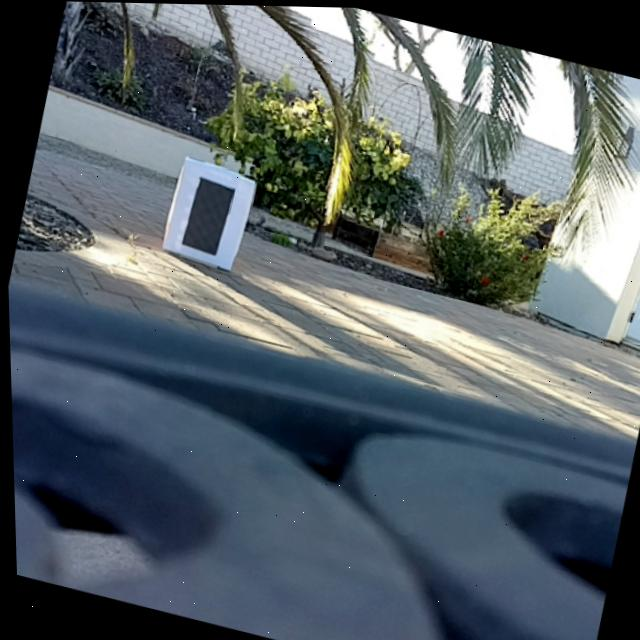led: (177, 175, 234, 256)
